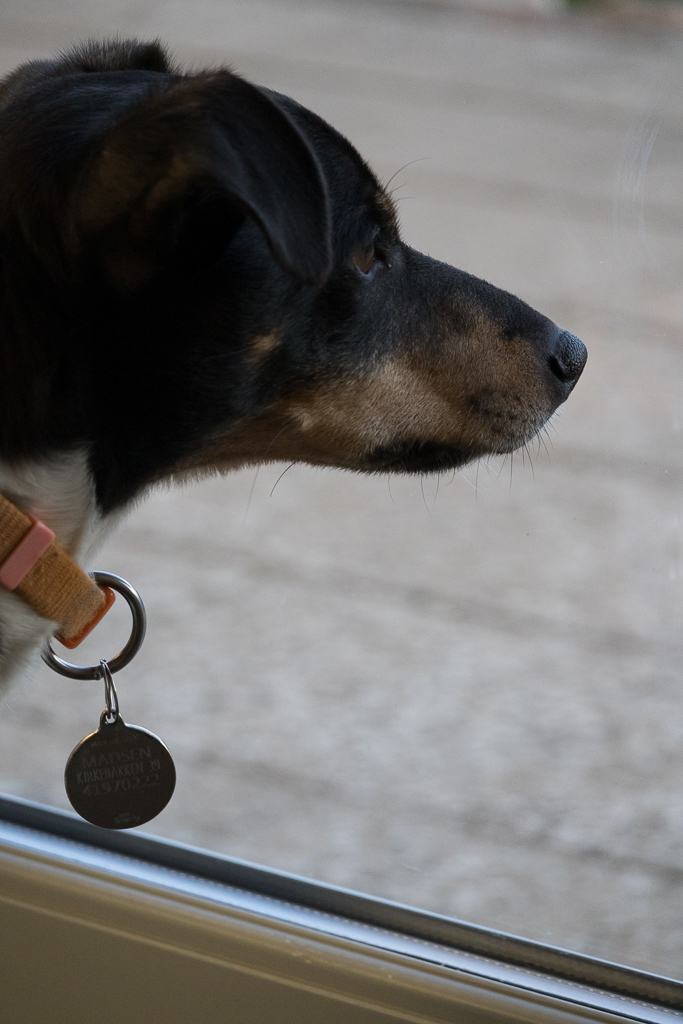Dog: (0, 15, 609, 748)
